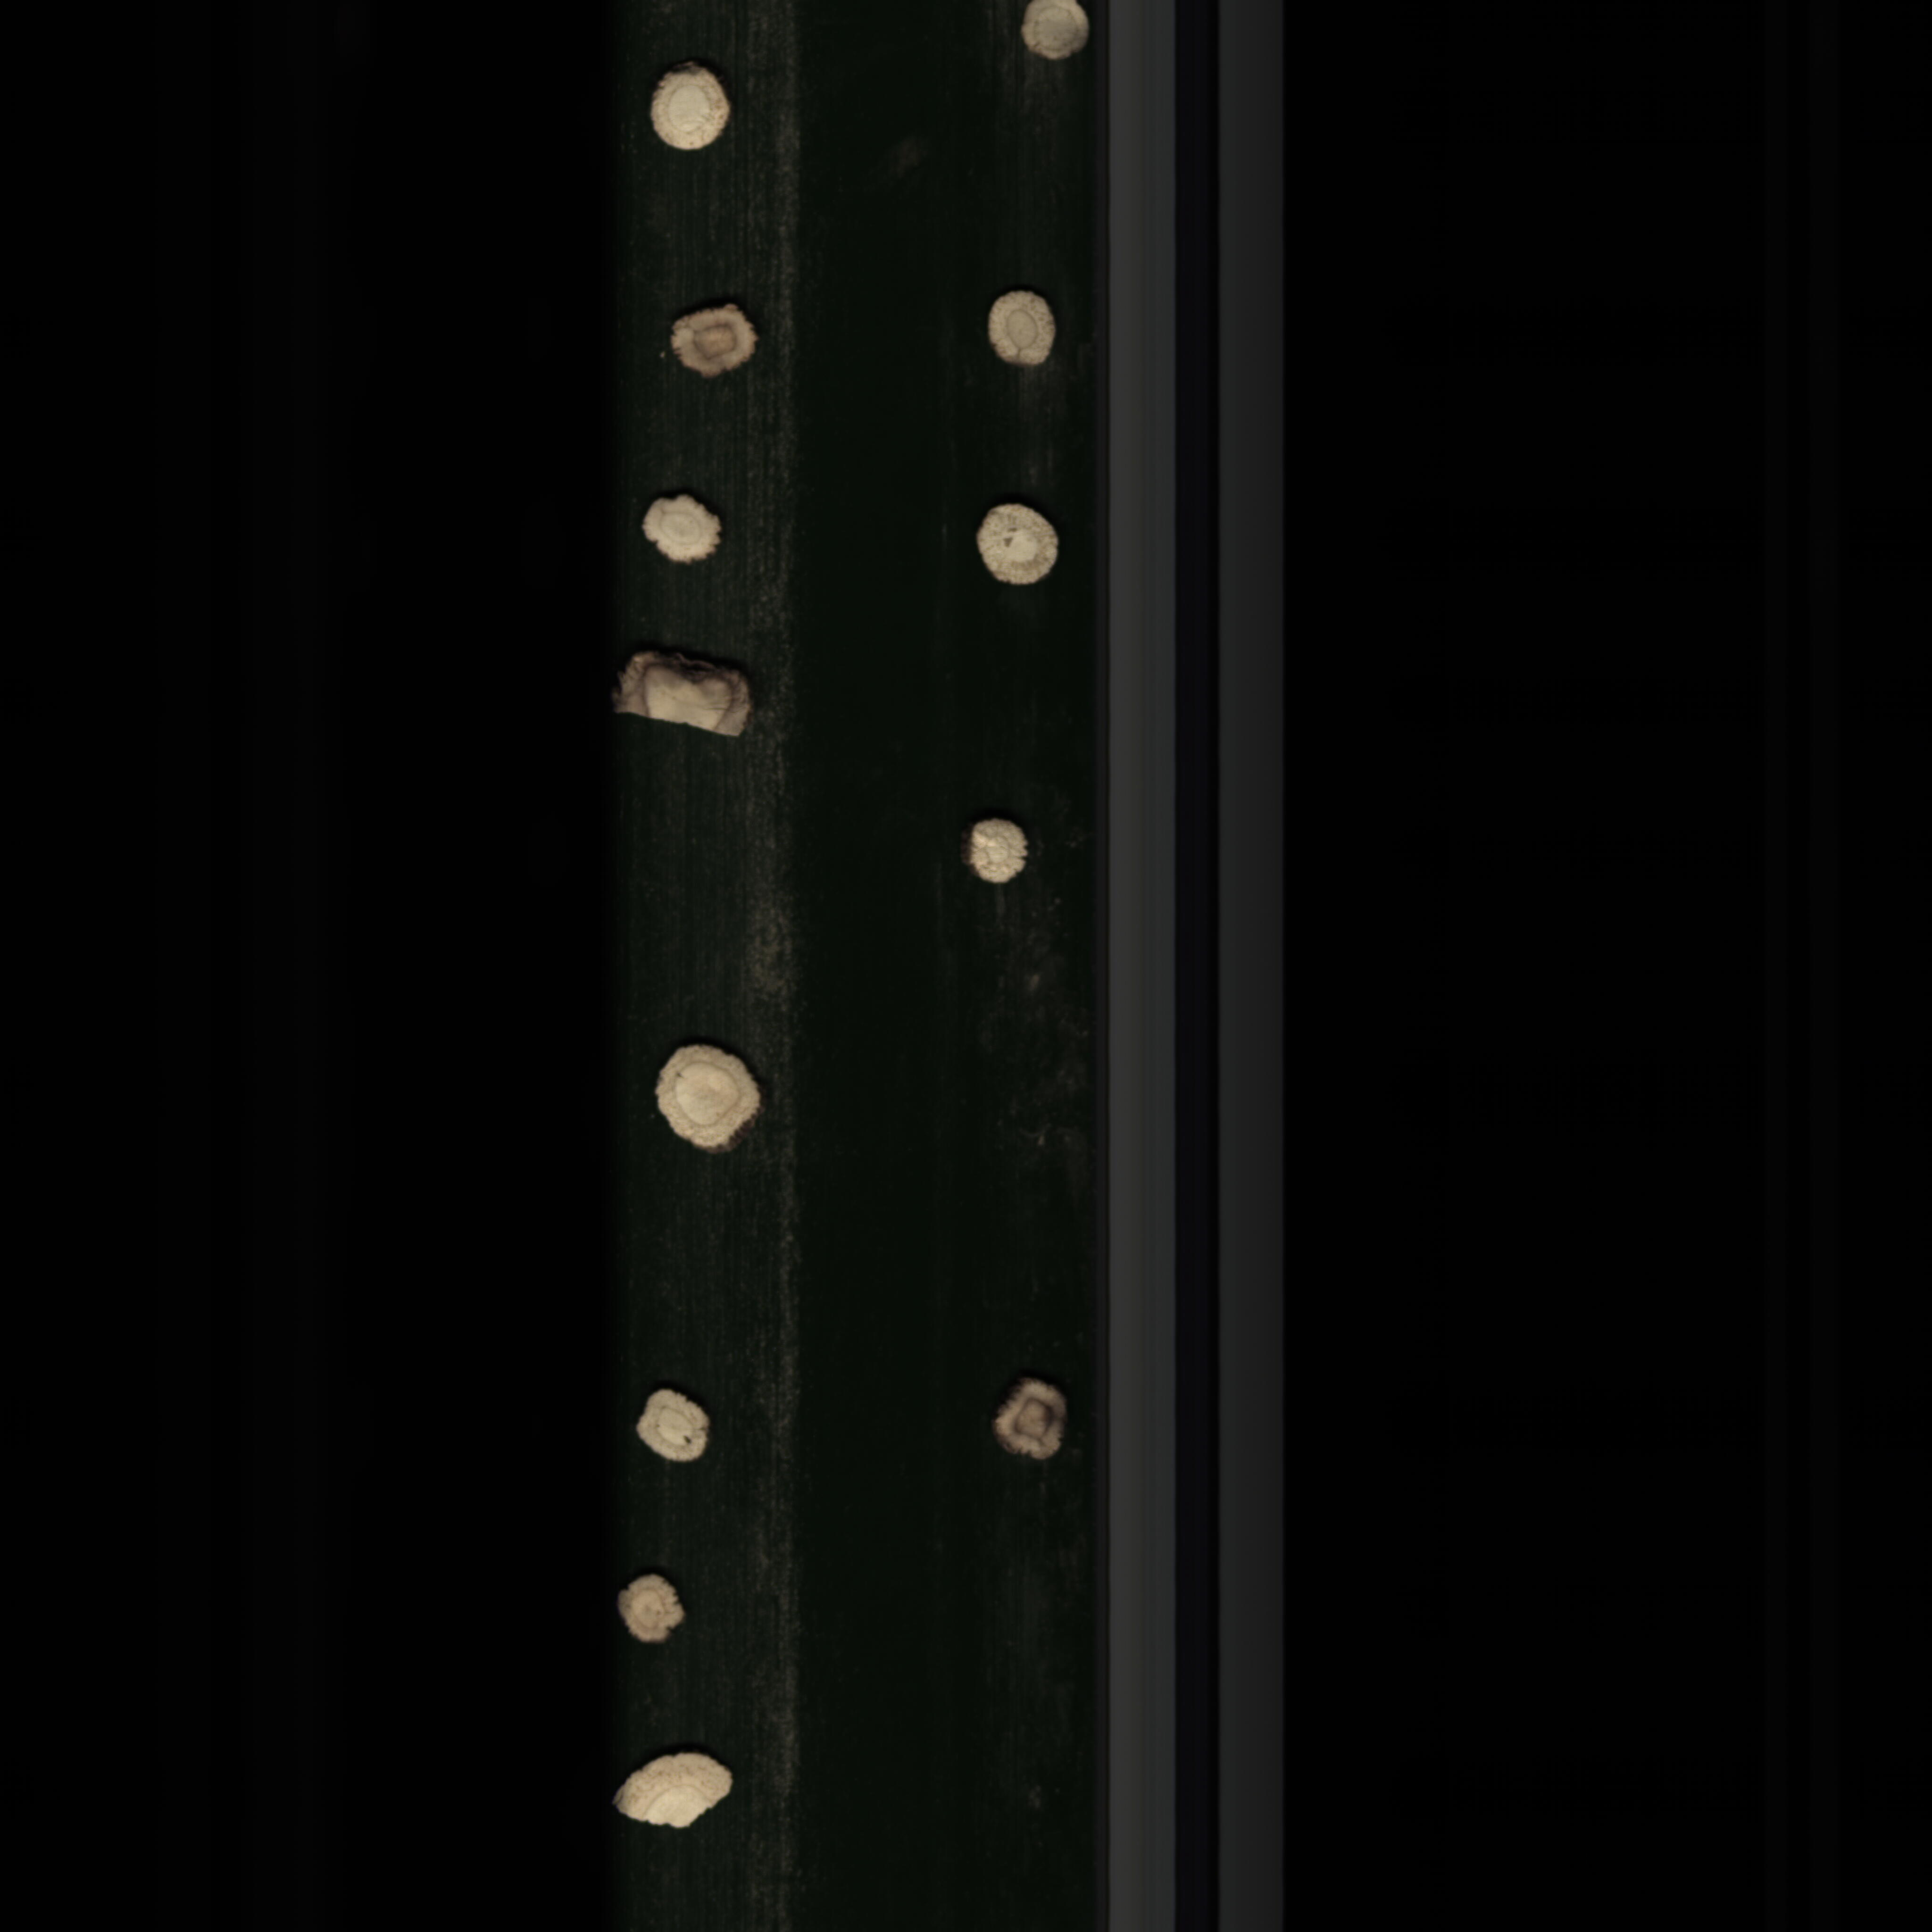debris: (602, 640, 780, 754), (598, 1741, 754, 1838)
moldy: (658, 295, 775, 393), (985, 1369, 1076, 1474)
